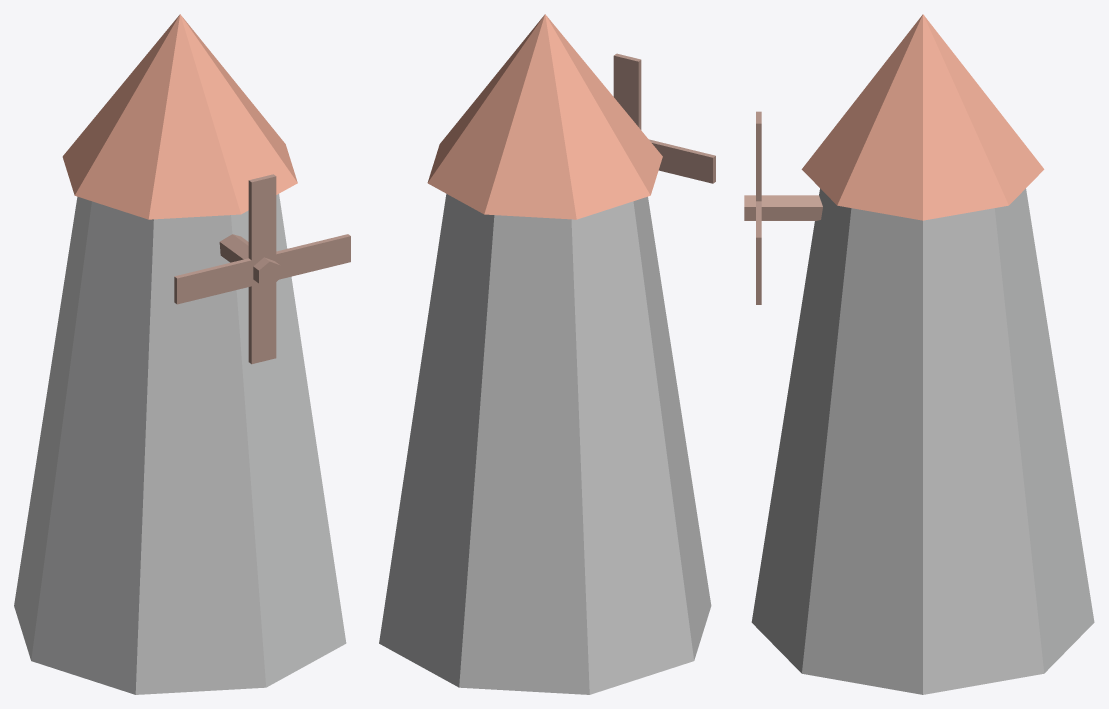
The model's file is Windmill.glb.
The picture shows the model from 3 angles, left to right: view 1: azimuth 30°, elevation 25°; view 2: azimuth 150°, elevation 25°; view 3: azimuth 270°, elevation 25°; orthographic projection.
Parts seen in each view (by area): view 1: Windmill; view 2: Windmill; view 3: Windmill.
Part boxes in pixels (x1,y1,x2,y2): Windmill: [14, 14, 350, 694]; Windmill: [379, 14, 715, 694]; Windmill: [744, 14, 1094, 694].
Bounding box in the file's own units: 2.4 × 4.7 × 2.45.
